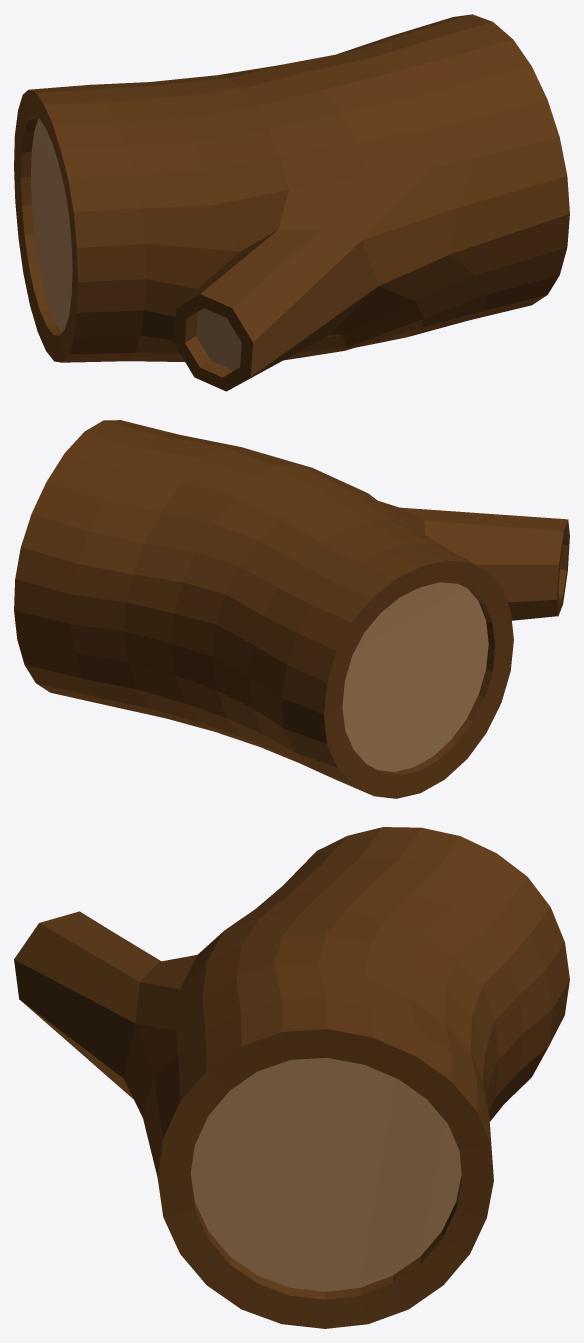
File: Wood.fbx
3 renders of one model, top to bottom at view 1: azimuth 30°, elevation 25°; view 2: azimuth 150°, elevation 25°; view 3: azimuth 270°, elevation 25°, orthographic. The views are drawn at different scales.
Visible parts, largest first — view 1: Wood; view 2: Wood; view 3: Wood.
Part boxes in pixels (bbox=[...]): Wood: bbox=[14, 14, 569, 391]; Wood: bbox=[14, 420, 569, 798]; Wood: bbox=[14, 827, 569, 1328].
Bounding box in the file's own units: 2.14 × 1.26 × 2.12.
